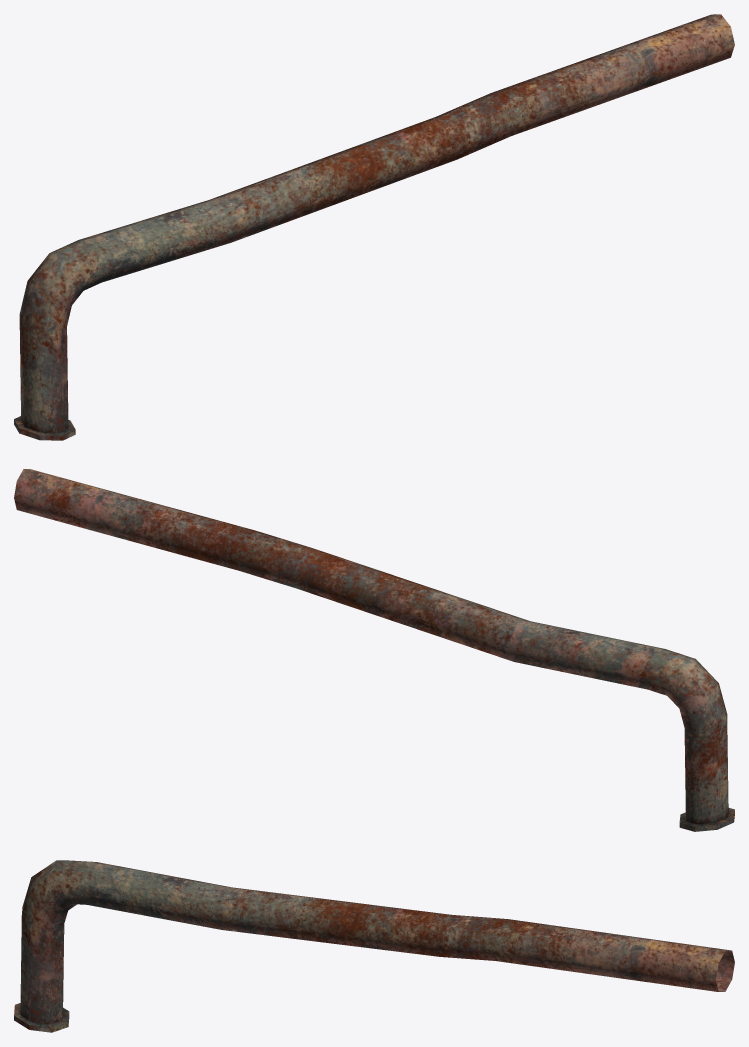
Rendered from Pipe_Broken_01.FBX.
3 renders of one model, top to bottom at view 1: azimuth 30°, elevation 25°; view 2: azimuth 150°, elevation 25°; view 3: azimuth 330°, elevation 25°, orthographic. The views are drawn at different scales.
Visible parts, largest first — view 1: Pipe_Broken_01; view 2: Pipe_Broken_01; view 3: Pipe_Broken_01.
Part boxes in pixels (<box>): Pipe_Broken_01: <box>14,14,734,440</box>; Pipe_Broken_01: <box>14,469,734,831</box>; Pipe_Broken_01: <box>14,860,734,1032</box>.
Size of the model in its own units: 1400 by 416 by 181.
